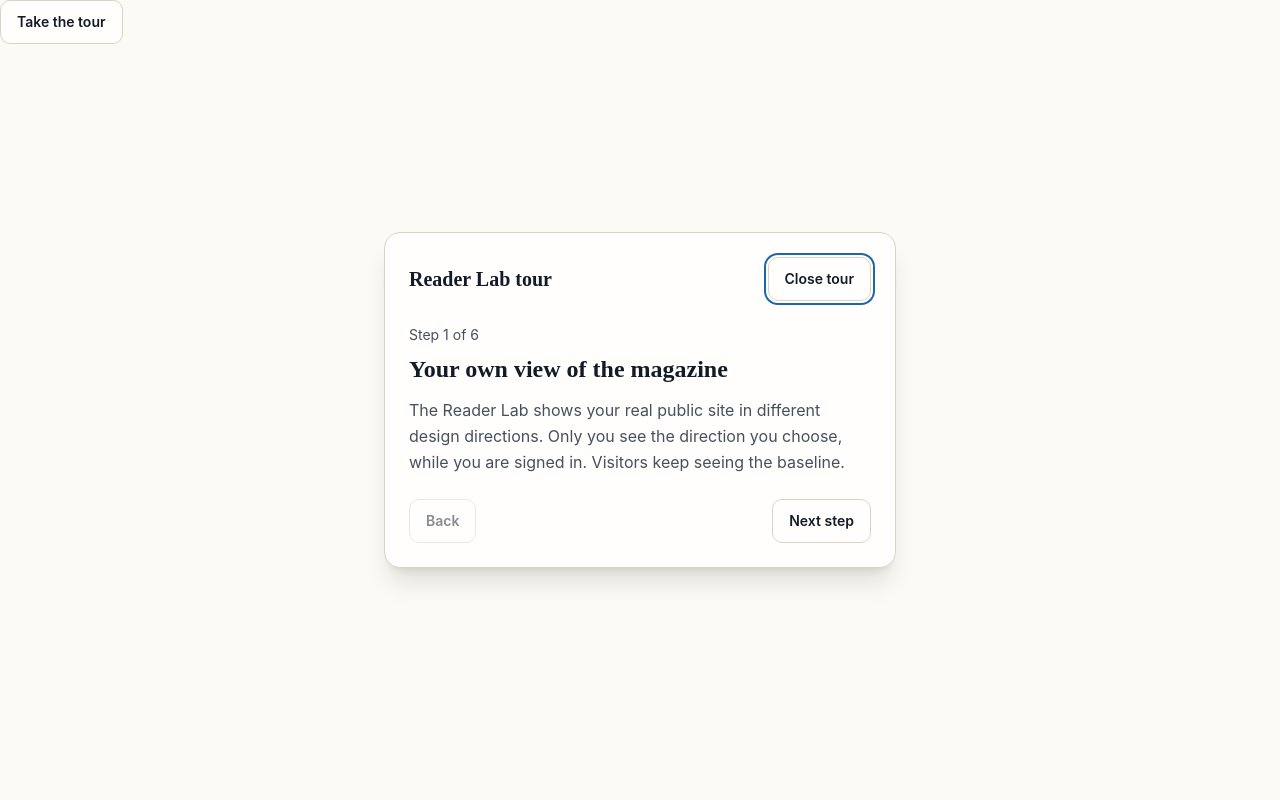
Test: Reader Lab introduction › allows dismissal when reading succeeds but storing the preference fails
The width and height of the screenshot is (1280, 800).
Click the button "Close tour". click: (819, 279)
box: [768,257,871,301]
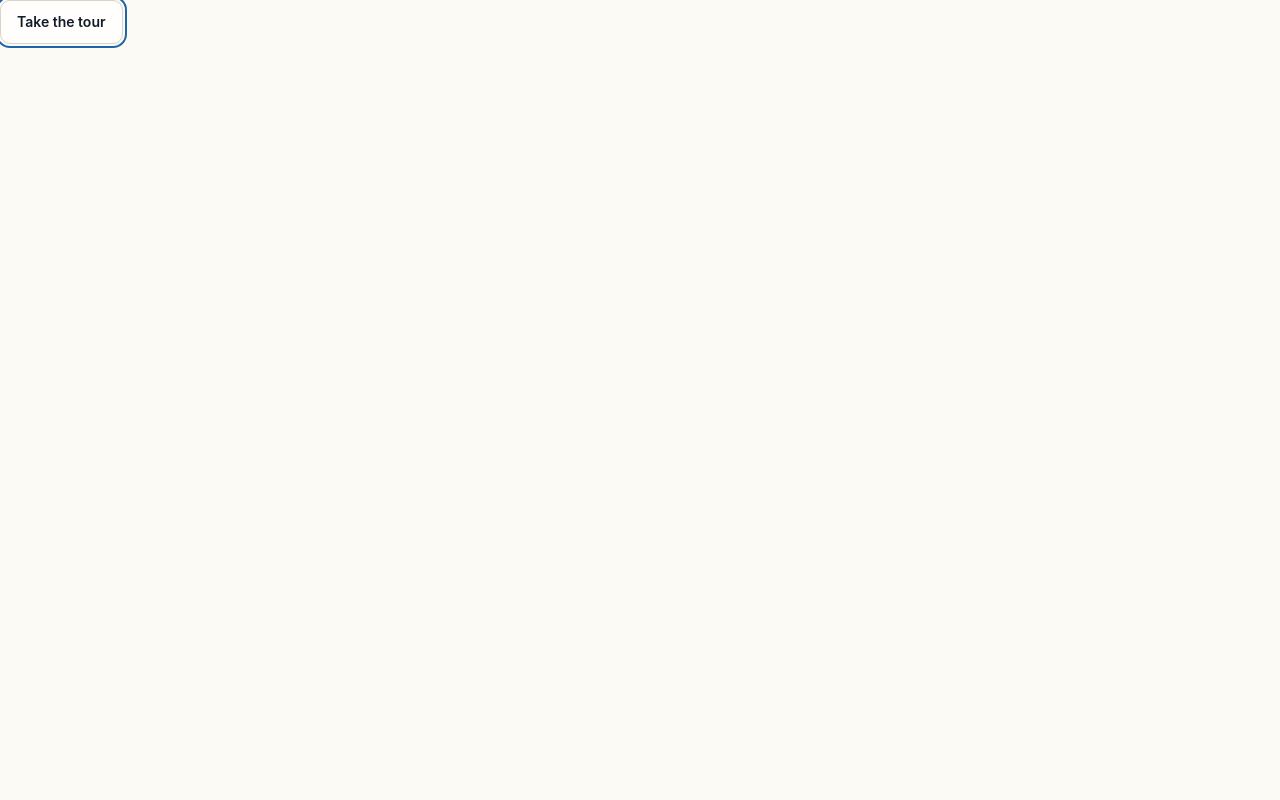
Result: the dialog is gone
